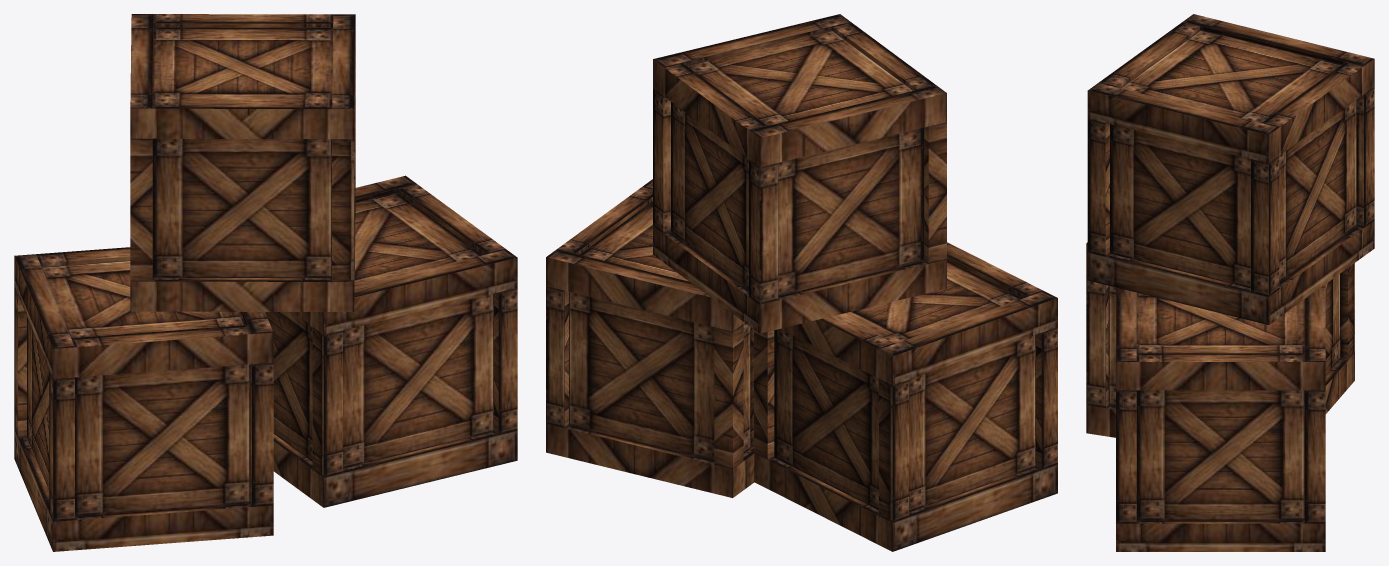
The picture shows the model from 3 angles, left to right: view 1: azimuth 30°, elevation 25°; view 2: azimuth 150°, elevation 25°; view 3: azimuth 270°, elevation 25°; orthographic projection. The views are drawn at different scales.
Parts seen in each view (by area): view 1: pCube3, pCube1, pCube2; view 2: pCube3, pCube1, pCube2; view 3: pCube3, pCube2, pCube1.
Boxes of the visible parts, x1,y1,x2,y2 form: pCube3: (130,14,355,311); pCube1: (14,247,273,551); pCube2: (265,175,517,507); pCube3: (653,14,946,333); pCube1: (754,242,1057,551); pCube2: (546,179,754,497); pCube3: (1087,14,1374,324); pCube2: (1116,284,1325,551); pCube1: (1086,242,1354,437).
Size of the model in its own units: 114 by 100 by 68.72.
Materials: 1 (1 with a texture image).
